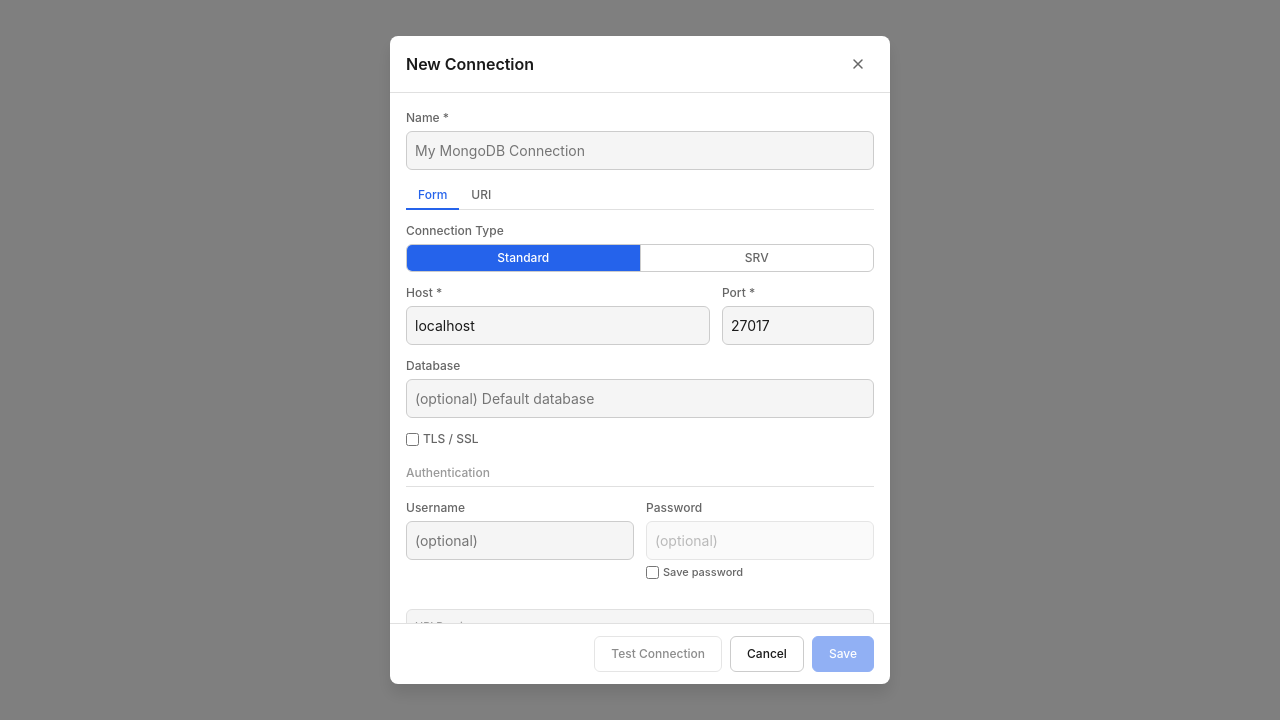
Test: ConnectionDialog › form/uri tabs › switches to URI tab when clicked
The width and height of the screenshot is (1280, 720).
Click the tab with test id "uri-tab" at (481, 196), box [459,182,503,210]
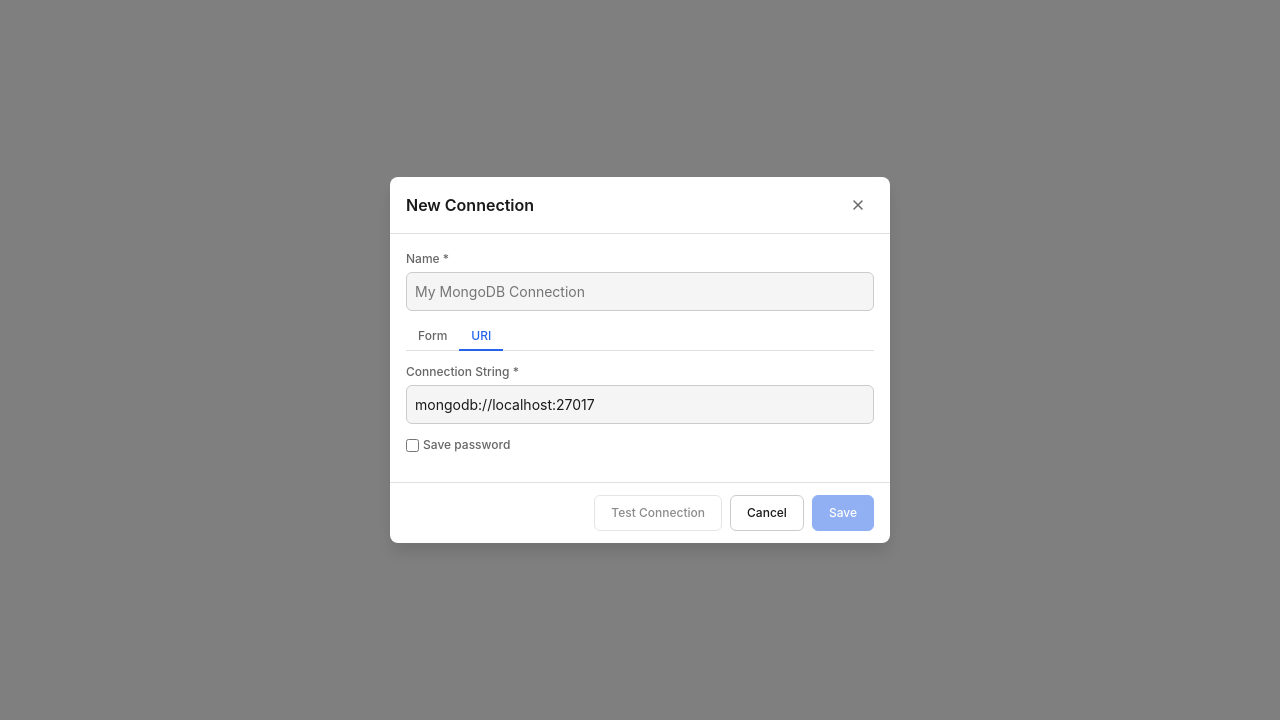
Now the field with test id "uri-input" is shown, box [406,385,874,424]
Now the element with test id "uri-preview" is gone
